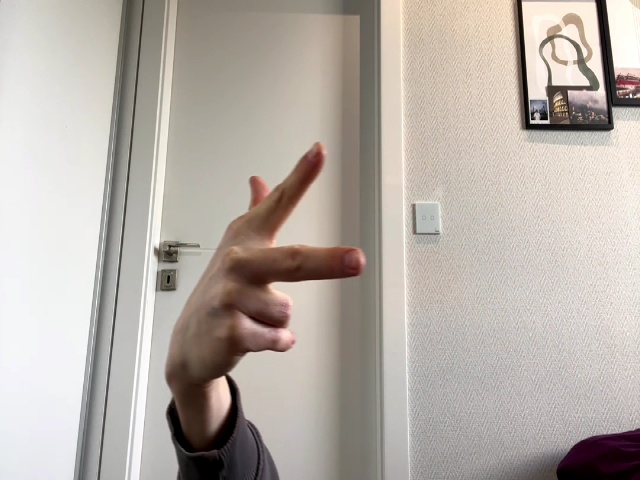K: (172, 142, 366, 390)
